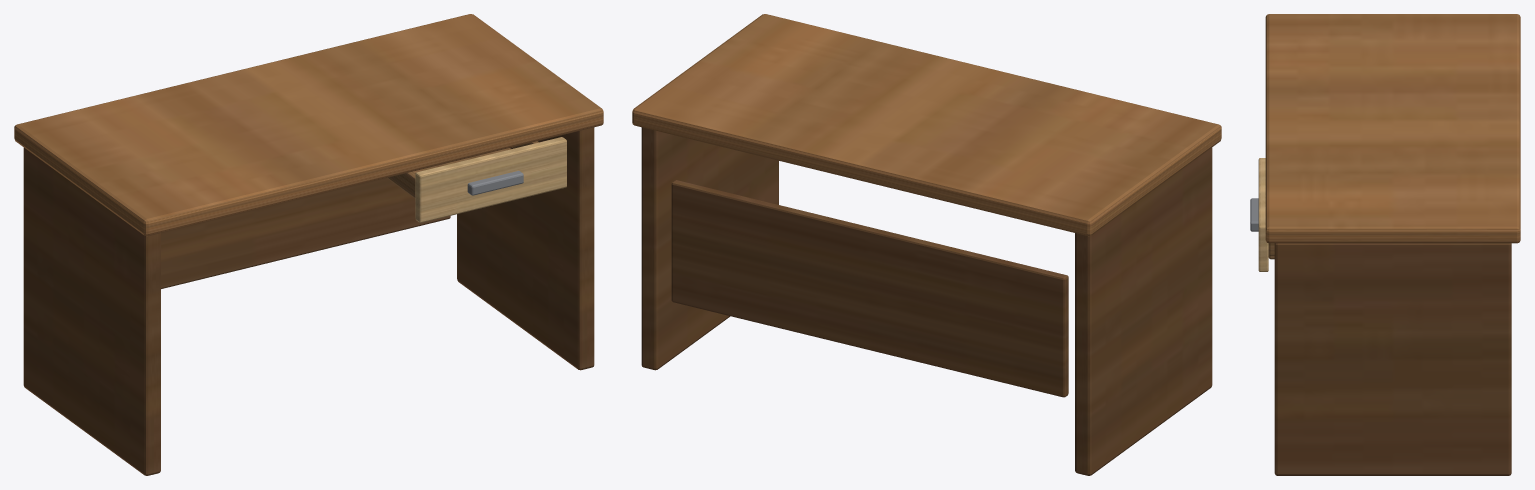
File: desk.glb
The picture shows the model from 3 angles, left to right: view 1: azimuth 30°, elevation 25°; view 2: azimuth 150°, elevation 25°; view 3: azimuth 270°, elevation 25°; orthographic projection. The views are drawn at different scales.
Visible parts, largest first — view 1: desk_top, desk_frame, part_drawer; view 2: desk_frame, desk_top; view 3: desk_top, desk_frame, part_drawer.
Boxes of the visible parts, x1,y1,x2,y2 form: desk_top: [14, 14, 603, 236]; desk_frame: [23, 127, 594, 475]; part_drawer: [387, 137, 566, 222]; desk_frame: [641, 127, 1212, 475]; desk_top: [632, 14, 1221, 236]; desk_top: [1265, 14, 1520, 243]; desk_frame: [1274, 243, 1511, 475]; part_drawer: [1250, 158, 1274, 271].
Bounding box in the file's own units: 1.4 × 0.76 × 0.742.
5 materials, 4 textured.
